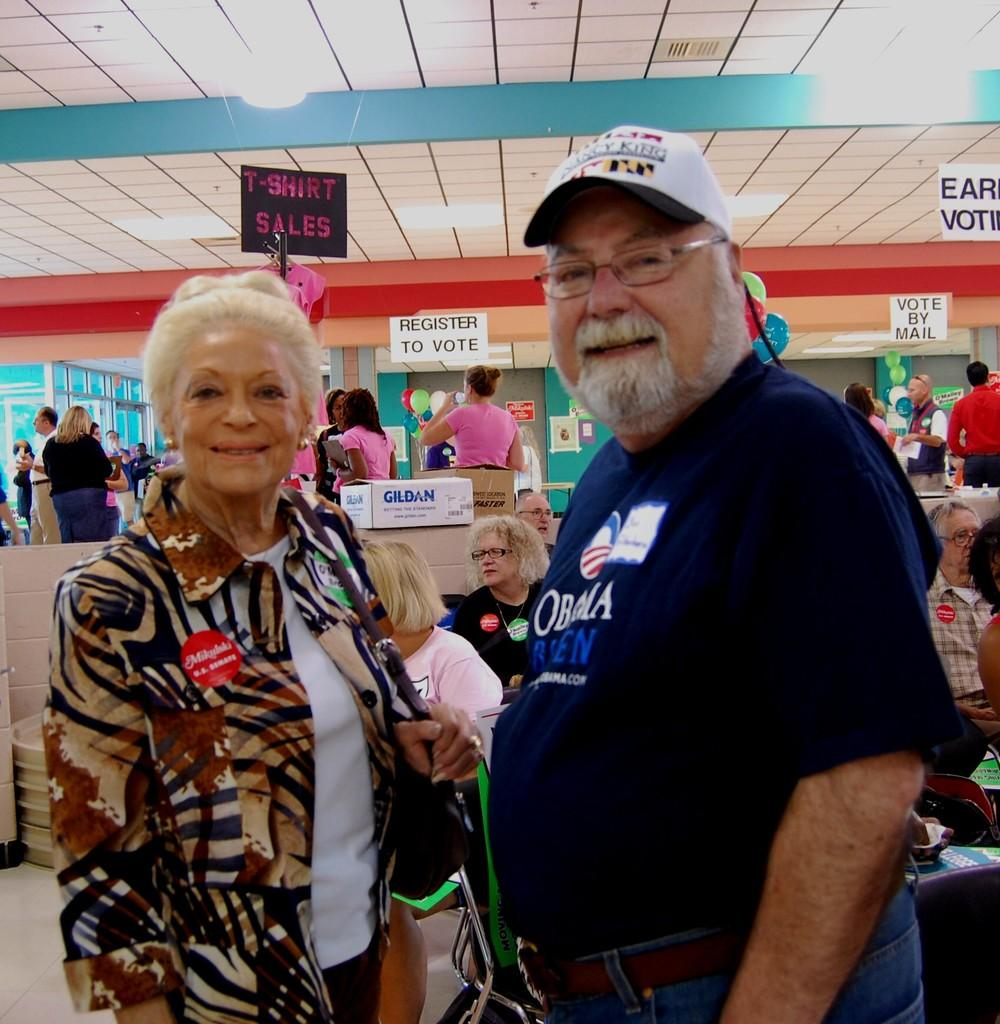Hat: (526, 125, 726, 248)
